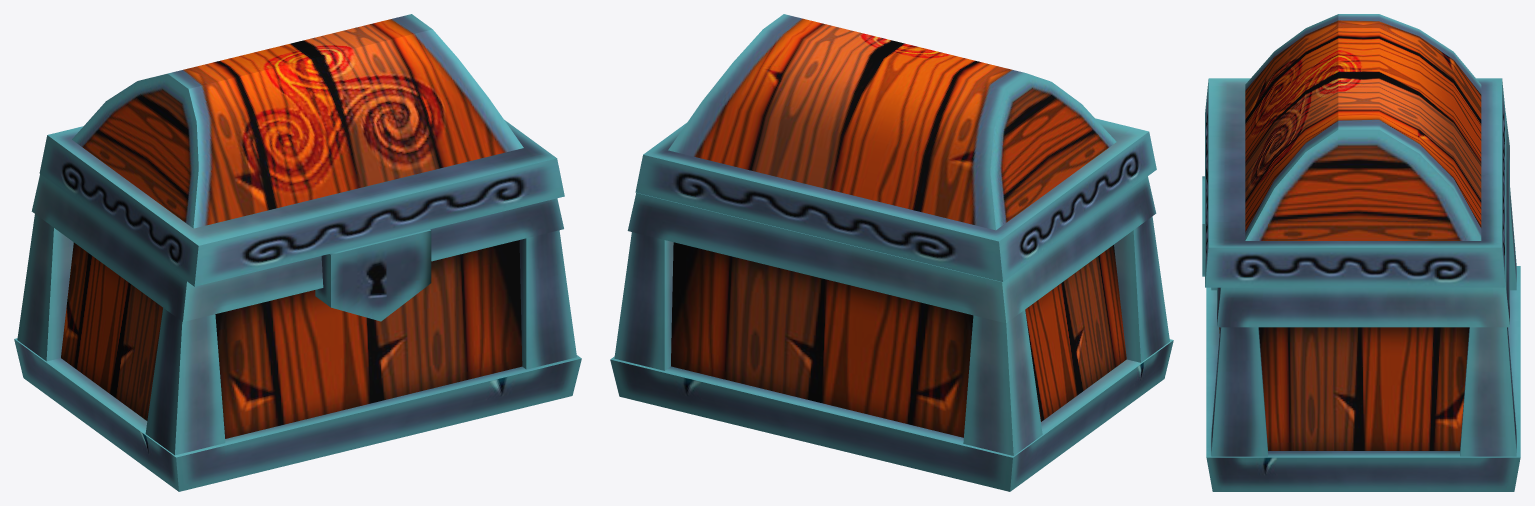
The model's file is chest.FBX.
3 views of the same model, side by side, from view 1: azimuth 30°, elevation 25°; view 2: azimuth 150°, elevation 25°; view 3: azimuth 270°, elevation 25° (orthographic). The views are drawn at different scales.
Visible parts, largest first — view 1: chestB, chestA; view 2: chestB, chestA; view 3: chestA, chestB.
Part boxes in pixels (x1=…): chestB: x1=14, y1=174, x2=581, y2=491; chestA: x1=39, y1=14, x2=564, y2=286; chestB: x1=610, y1=176, x2=1173, y2=491; chestA: x1=635, y1=14, x2=1156, y2=281; chestA: x1=1205, y1=14, x2=1505, y2=287; chestB: x1=1202, y1=113, x2=1520, y2=491.
Bounding box in the file's own units: 2.42 × 1.7 × 1.92.
